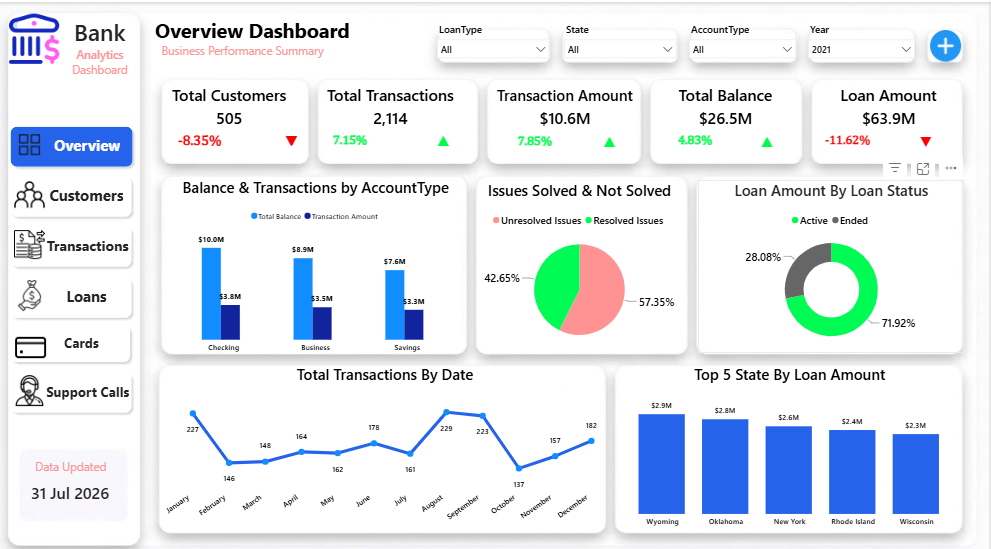

The dashboard page shown, as its layout file describes it:
{"tool":"powerbi","page":{"name":"Overview","canvas":[1600,900],"ordinal":0},"visuals":[{"type":"cardVisual","fields":{"Data":["Calculation Overview.Total Customers"]},"box":[249.4,115.7,249.4,104.8],"z":0},{"type":"shape","box":[14,515.2,207.3,73.4],"z":0,"group":"g6"},{"type":"cardVisual","fields":{"Data":["Calculation Overview.Total Transactions"]},"box":[498.8,110,272.9,115.7],"z":1000},{"type":"image","box":[24,533.7,60,50],"z":1000,"group":"g6"},{"type":"cardVisual","title":"Transaction Amount","fields":{"Data":["Calculation Overview.Amount Transactions"]},"box":[771.7,108.2,291,119.3],"z":2000},{"type":"cardVisual","fields":{"Data":["Calculation Overview.Total Balance"]},"box":[1053.6,110,244,115.7],"z":3000},{"type":"cardVisual","fields":{"Data":["Calculation Overview.Loan Amount"]},"box":[1306.6,111.2,263.3,113.3],"z":4000},{"type":"cardVisual","fields":{"Data":["Calculation Overview.Change_of_Trans"]},"box":[513.3,196.6,132.9,52.9],"z":5000},{"type":"cardVisual","fields":{"Data":["Calculation Overview.Change_of_Am_Trans"]},"box":[793.4,195.2,148.2,56],"z":6000},{"type":"cardVisual","fields":{"Data":["Calculation Overview.Change_of_Balance"]},"box":[1053.2,191.9,146.8,61.3],"z":7000},{"type":"cardVisual","fields":{"Data":["Calculation Overview.Change_of_Loans"]},"box":[1306.6,187.2,131.5,71.7],"z":8000},{"type":"clusteredColumnChart","title":"Balance & Transactions by AccountType","fields":{"Category":["Accounts.AccountType"],"Y":["Calculation Overview.Total Balance","Calculation Overview.Amount Transactions"]},"box":[266.7,282.2,495.5,292.5],"z":9000},{"type":"donutChart","title":"Loan Amount By Loan Status","fields":{"Category":["Loans.Loan_Status"],"Y":["Sum(Loans.LoanAmount)"]},"box":[1130.3,287.3,430.1,278.7],"z":10000},{"type":"lineChart","title":"Total Transactions By Date","fields":{"Category":["Calender.Date.Variation.Date Hierarchy.Year","Calender.Date.Variation.Date Hierarchy.Quarter","Calender.Date.Variation.Date Hierarchy.Month"],"Y":["Calculation Overview.Total Transactions"]},"box":[264.9,583.2,722.6,271.8],"z":11000},{"type":"columnChart","title":"Top 5 State By Loan Amount","fields":{"Category":["customers.State"],"Y":["Calculation Overview.Loan Amount"]},"box":[989.2,583.2,579.8,271.8],"z":12000},{"type":"pieChart","title":"Issues Solved & Not Solved","fields":{"Y":["Customer Service.Issues_Not_Solved","Customer Service.Issues_Solved"]},"box":[772.5,287.3,333.8,278.7],"z":13000},{"type":"cardVisual","fields":{"Data":["Calculation Overview.Arrow customers"]},"box":[435.5,196.6,78.6,52.9],"z":14000},{"type":"cardVisual","fields":{"Data":["Calculation Overview.Arrow Transactions"]},"box":[679.5,192.3,82.9,61.4],"z":15000},{"type":"cardVisual","fields":{"Data":["Calculation Overview.Arrow Amount"]},"box":[948.8,193.1,79.3,59.8],"z":16000},{"type":"cardVisual","fields":{"Data":["Calculation Overview.Arrow Balance"]},"box":[1200,189.9,84.8,66.3],"z":17000},{"type":"cardVisual","fields":{"Data":["Calculation Overview.Arrow Loan"]},"box":[1456.6,195,83.1,56],"z":18000},{"type":"cardVisual","fields":{"Data":["Calculation Overview.Change_of_customers"]},"box":[250,195.2,154.8,54.8],"z":19000},{"type":"slicer","fields":{"Values":["Calender.Year"]},"box":[1297.6,28,191.6,70.5],"z":20000},{"type":"group","id":"g1","title":"Group 1","box":[14,194,212,80],"z":21000},{"type":"group","id":"g2","title":"Group 1","box":[14,274.8,210,80],"z":22000},{"type":"shape","box":[14,194,211.6,79.5],"z":23000,"group":"g1"},{"type":"shape","box":[14,274.8,209.6,79.5],"z":23000,"group":"g2"},{"type":"group","id":"g3","title":"Group 1","box":[14,355.6,210,80],"z":23000},{"type":"shape","box":[14,355.6,209.6,79.5],"z":23000,"group":"g3"},{"type":"shape","box":[14,436.4,209.6,79.5],"z":23000,"group":"g4"},{"type":"shape","box":[14,590,209.6,79.5],"z":23000,"group":"g5"},{"type":"image","box":[26.8,201.2,50.5,60],"z":24000,"group":"g1"},{"type":"image","box":[26.7,282,50,60],"z":24000,"group":"g2"},{"type":"image","box":[26.7,362.8,50,60],"z":24000,"group":"g3"},{"type":"group","id":"g4","title":"Group 1","box":[14,436.4,210,78],"z":24000},{"type":"image","box":[26.7,443.6,50,60],"z":24000,"group":"g4"},{"type":"image","box":[26.7,597.2,50,60],"z":24000,"group":"g5"},{"type":"group","id":"g5","title":"Group 1","box":[14,590,210,80],"z":25000},{"type":"slicer","fields":{"Values":["Accounts.AccountType"]},"box":[1106,28,191.6,70.5],"z":26000},{"type":"slicer","fields":{"Values":["customers.State"]},"box":[905.4,28,200.6,70.5],"z":27000},{"type":"slicer","fields":{"Values":["Loans.LoanType"]},"box":[699.4,28,200.6,70.5],"z":28000},{"type":"image","box":[19.9,18.1,81.3,83.1],"z":29000},{"type":"textbox","box":[101.2,18.1,128.3,65.1],"z":30000},{"type":"textbox","box":[101.2,66.9,128.3,65.1],"z":31000},{"type":"cardVisual","fields":{"Data":["Customer Service.Today"]},"box":[25.3,750,197,79.5],"z":32000},{"type":"textbox","box":[56,730.1,137.3,39.8],"z":33000},{"type":"textbox","box":[249.4,18.1,343.4,83.1],"z":34000},{"type":"image","box":[1500,45.2,59.6,50.6],"z":35000},{"type":"group","id":"g6","title":"Group 2","box":[14,515.2,208,74],"z":36000}]}

Visuals, with their boxes on the page's 1600x900 design canvas (x1, y1, x2, y2). These are canvas units, not pixel positions in the 991x549 screenshot, which may show the page scaled, cropped or inside an application window:
cardVisual - Calculation Overview.Total Customers: <box>249,116,499,220</box>
shape: <box>14,515,221,589</box>
cardVisual - Calculation Overview.Total Transactions: <box>499,110,772,226</box>
image: <box>24,534,84,584</box>
"Transaction Amount" cardVisual: <box>772,108,1063,228</box>
cardVisual - Calculation Overview.Total Balance: <box>1054,110,1298,226</box>
cardVisual - Calculation Overview.Loan Amount: <box>1307,111,1570,224</box>
cardVisual - Calculation Overview.Change_of_Trans: <box>513,197,646,250</box>
cardVisual - Calculation Overview.Change_of_Am_Trans: <box>793,195,942,251</box>
cardVisual - Calculation Overview.Change_of_Balance: <box>1053,192,1200,253</box>
cardVisual - Calculation Overview.Change_of_Loans: <box>1307,187,1438,259</box>
"Balance & Transactions by AccountType" clusteredColumnChart: <box>267,282,762,575</box>
"Loan Amount By Loan Status" donutChart: <box>1130,287,1560,566</box>
"Total Transactions By Date" lineChart: <box>265,583,988,855</box>
"Top 5 State By Loan Amount" columnChart: <box>989,583,1569,855</box>
"Issues Solved & Not Solved" pieChart: <box>772,287,1106,566</box>
cardVisual - Calculation Overview.Arrow customers: <box>436,197,514,250</box>
cardVisual - Calculation Overview.Arrow Transactions: <box>680,192,762,254</box>
cardVisual - Calculation Overview.Arrow Amount: <box>949,193,1028,253</box>
cardVisual - Calculation Overview.Arrow Balance: <box>1200,190,1285,256</box>
cardVisual - Calculation Overview.Arrow Loan: <box>1457,195,1540,251</box>
cardVisual - Calculation Overview.Change_of_customers: <box>250,195,405,250</box>
slicer - Calender.Year: <box>1298,28,1489,98</box>
"Group 1" group: <box>14,194,226,274</box>
"Group 1" group: <box>14,275,224,355</box>
shape: <box>14,194,226,274</box>
shape: <box>14,275,224,354</box>
"Group 1" group: <box>14,356,224,436</box>
shape: <box>14,356,224,435</box>
shape: <box>14,436,224,516</box>
shape: <box>14,590,224,670</box>
image: <box>27,201,77,261</box>
image: <box>27,282,77,342</box>
image: <box>27,363,77,423</box>
"Group 1" group: <box>14,436,224,514</box>
image: <box>27,444,77,504</box>
image: <box>27,597,77,657</box>
"Group 1" group: <box>14,590,224,670</box>
slicer - Accounts.AccountType: <box>1106,28,1298,98</box>
slicer - customers.State: <box>905,28,1106,98</box>
slicer - Loans.LoanType: <box>699,28,900,98</box>
image: <box>20,18,101,101</box>
textbox: <box>101,18,230,83</box>
textbox: <box>101,67,230,132</box>
cardVisual - Customer Service.Today: <box>25,750,222,830</box>
textbox: <box>56,730,193,770</box>
textbox: <box>249,18,593,101</box>
image: <box>1500,45,1560,96</box>
"Group 2" group: <box>14,515,222,589</box>
